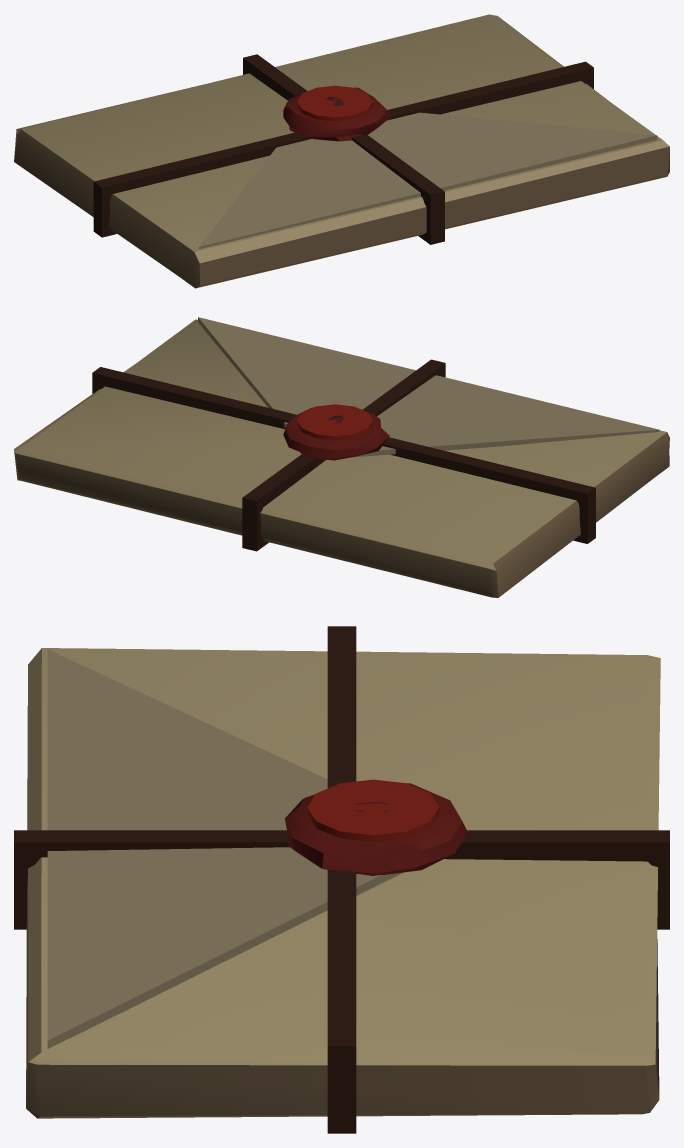
File: Zarf.fbx
3 views of the same model, one above another, from view 1: azimuth 30°, elevation 25°; view 2: azimuth 150°, elevation 25°; view 3: azimuth 270°, elevation 25° (orthographic). The views are drawn at different scales.
Visible parts, largest first — view 1: Zarf; view 2: Zarf; view 3: Zarf.
Part boxes in pixels (<box>): Zarf: <box>14,14,669,288</box>; Zarf: <box>14,317,669,597</box>; Zarf: <box>14,626,669,1133</box>.
Size of the model in its own units: 0.206 by 0.0266 by 0.136.
